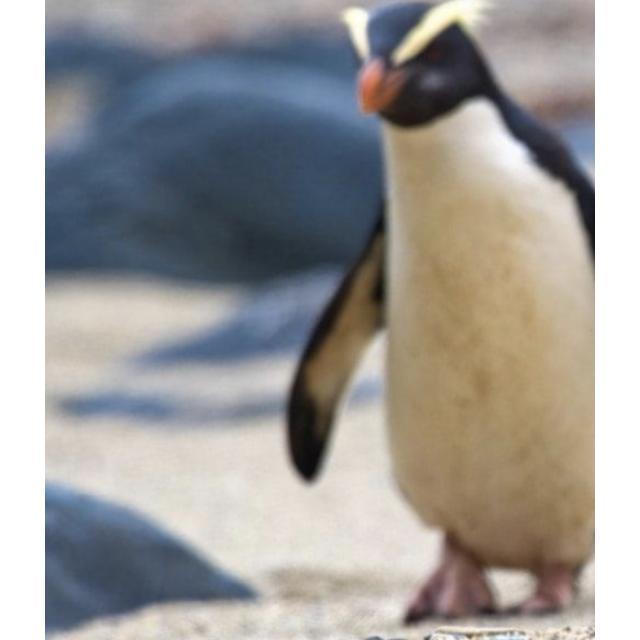penguin: (286, 2, 592, 626)
